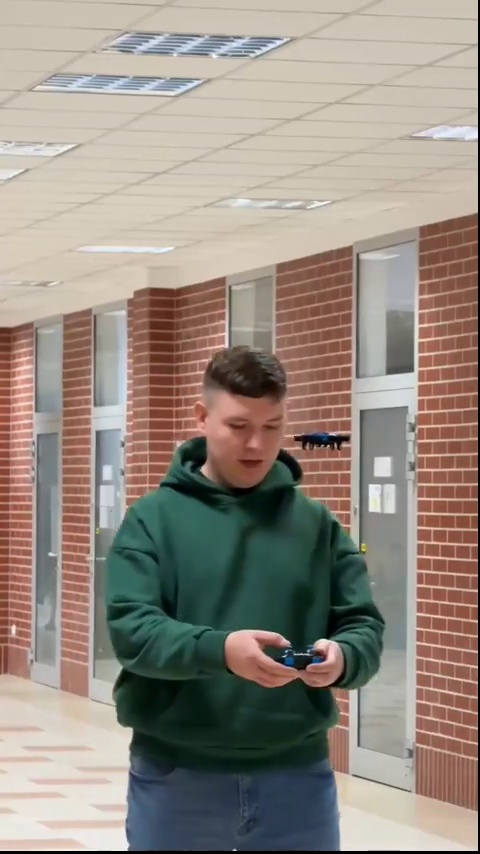drone: (296, 429, 357, 453)
no vest: (104, 350, 382, 848)
